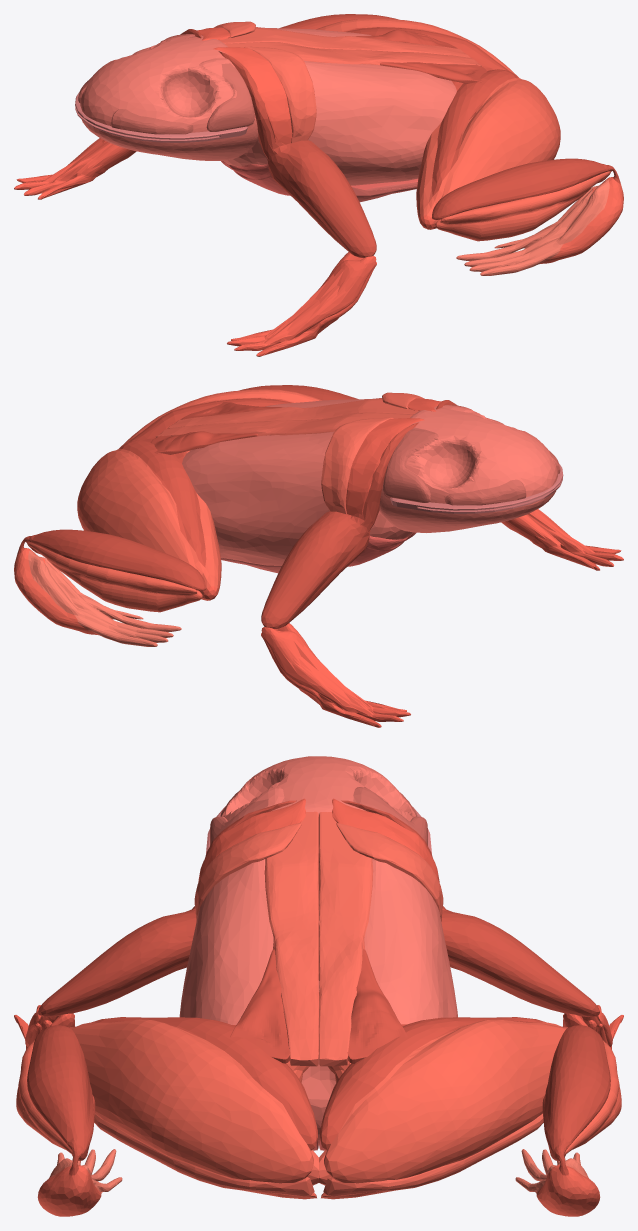
The model's file is muscles.fbx.
3 views of the same model, one above another, from view 1: azimuth 30°, elevation 25°; view 2: azimuth 150°, elevation 25°; view 3: azimuth 270°, elevation 25° (orthographic). The views are drawn at different scales.
Visible parts, largest first — view 1: Cube.006, Sphere.002, Cube.012, Sphere.010, Cube.002, Sphere.012, Cube.001, Cube, Sphere.009, Cube.003, Sphere.019, Cube.013 (+1 smaller); view 2: Cube.006, Cube.012, Sphere.002, Sphere.010, Cube.002, Sphere.012, Cube.001, Cube, Sphere.009, Cube.003, Sphere.019, Cube.013; view 3: Sphere.002, Cube.012, Cube, Sphere.010, Cube.002, Cube.001, Cube.006, Cube.003, Sphere.007, Sphere.009, Sphere.012.
Part boxes in pixels (box(x1,y1,x2,y2)): Cube.006: box(78, 34, 258, 160); Sphere.002: box(316, 18, 560, 229); Cube.012: box(223, 27, 456, 185); Sphere.010: box(279, 14, 623, 275); Cube.002: box(180, 29, 376, 257); Sphere.012: box(14, 138, 376, 356); Cube.001: box(196, 21, 316, 144); Cube: box(219, 27, 481, 66); Sphere.009: box(435, 171, 611, 241); Cube.003: box(355, 29, 487, 83); Sphere.019: box(75, 91, 247, 142); Cube.013: box(221, 161, 290, 195); Cube.006: box(379, 405, 560, 532); Cube.012: box(182, 398, 413, 565); Sphere.002: box(77, 389, 321, 600); Sphere.010: box(14, 385, 358, 646); Cube.002: box(261, 400, 457, 628); Sphere.012: box(261, 509, 623, 727); Cube.001: box(321, 392, 441, 515); Cube: box(156, 398, 418, 437); Sphere.009: box(26, 542, 202, 612); Cube.003: box(150, 402, 282, 454); Sphere.019: box(390, 463, 563, 513); Cube.013: box(347, 532, 416, 566); Sphere.002: box(70, 1017, 567, 1183); Cube.012: box(179, 859, 457, 1145); Cube: box(264, 811, 373, 1066); Sphere.010: box(27, 1025, 610, 1216); Cube.002: box(38, 800, 599, 1017); Cube.001: box(194, 798, 443, 921); Cube.006: box(210, 756, 427, 915); Cube.003: box(230, 949, 407, 1063); Sphere.007: box(94, 1113, 543, 1199); Sphere.009: box(16, 1040, 621, 1154); Sphere.012: box(14, 1005, 623, 1049).
Bounding box in the file's own units: 785 × 353 × 725.
